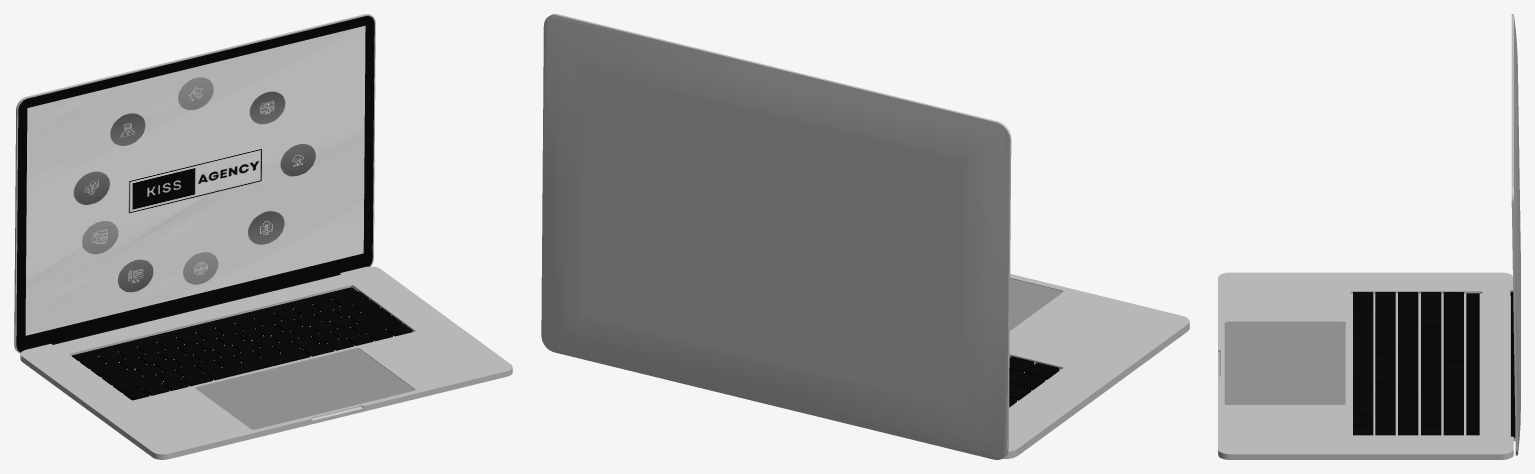
The model's file is kiss-laptop.glb.
The picture shows the model from 3 angles, left to right: view 1: azimuth 30°, elevation 25°; view 2: azimuth 150°, elevation 25°; view 3: azimuth 270°, elevation 25°; orthographic projection. The views are drawn at different scales.
Visible parts, largest first — view 1: Cube008_2, Cube002, keyboard, Cube008_1, Cube002_1, Cube008, touchbar; view 2: Cube008, Cube002, Cube002_1, keyboard; view 3: Cube002, keyboard, Cube002_1, Cube008, touchbar, Cube008_1.
Boxes of the visible parts, left/top/right/bottom form: Cube008_2: left=25, top=25, right=365, bottom=335; Cube002: left=20, top=266, right=512, bottom=459; keyboard: left=79, top=291, right=412, bottom=400; Cube008_1: left=16, top=16, right=374, bottom=352; Cube002_1: left=195, top=348, right=414, bottom=429; Cube008: left=14, top=14, right=375, bottom=353; touchbar: left=72, top=287, right=358, bottom=360; Cube008: left=541, top=14, right=1011, bottom=459; Cube002: left=1002, top=274, right=1189, bottom=458; Cube002_1: left=1009, top=278, right=1062, bottom=330; keyboard: left=1009, top=356, right=1059, bottom=407; Cube002: left=1218, top=272, right=1513, bottom=459; keyboard: left=1353, top=292, right=1463, bottom=435; Cube002_1: left=1224, top=322, right=1345, bottom=404; Cube008: left=1511, top=14, right=1520, bottom=455; touchbar: left=1466, top=293, right=1479, bottom=435; Cube008_1: left=1510, top=291, right=1515, bottom=437.
Size of the model in its own units: 8.81 by 6.16 by 6.2.
6 materials, 1 textured.
